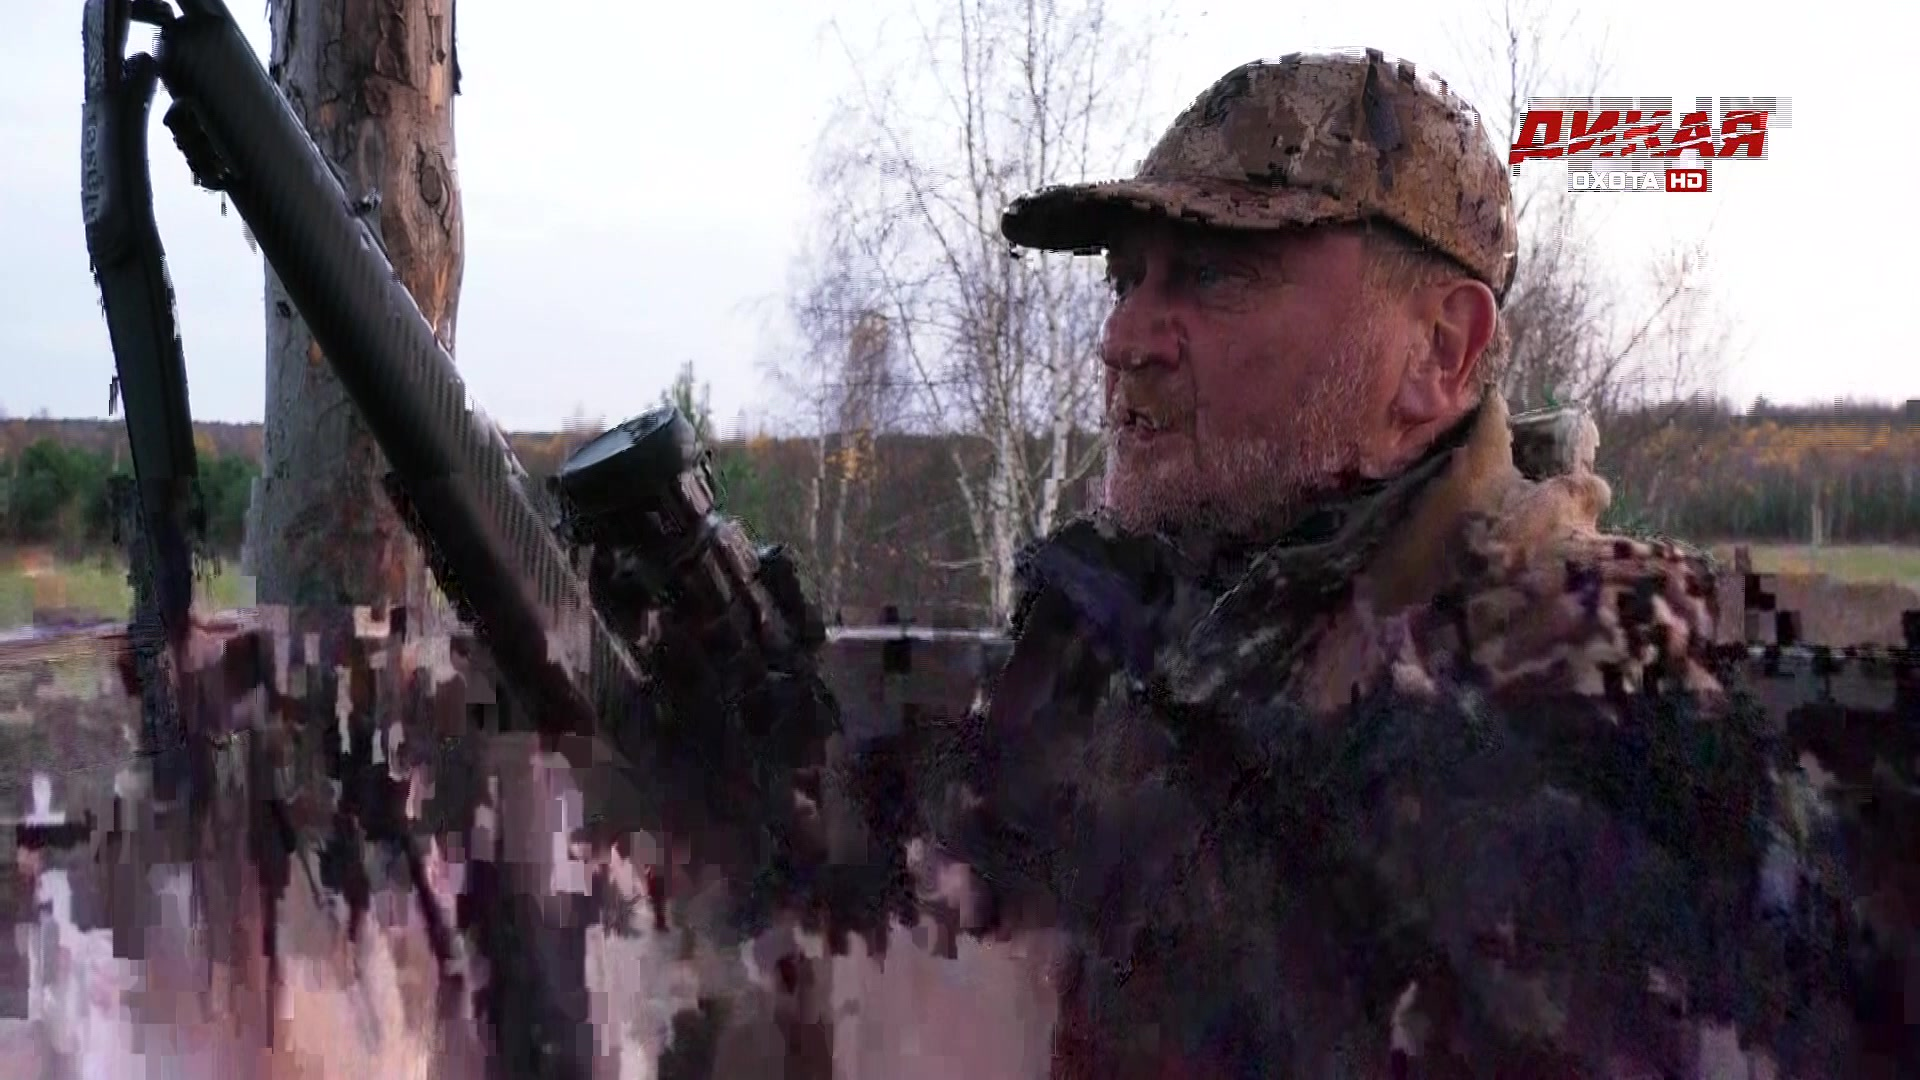Dikaya_Ohota_HD: (1503, 108, 1778, 196)
